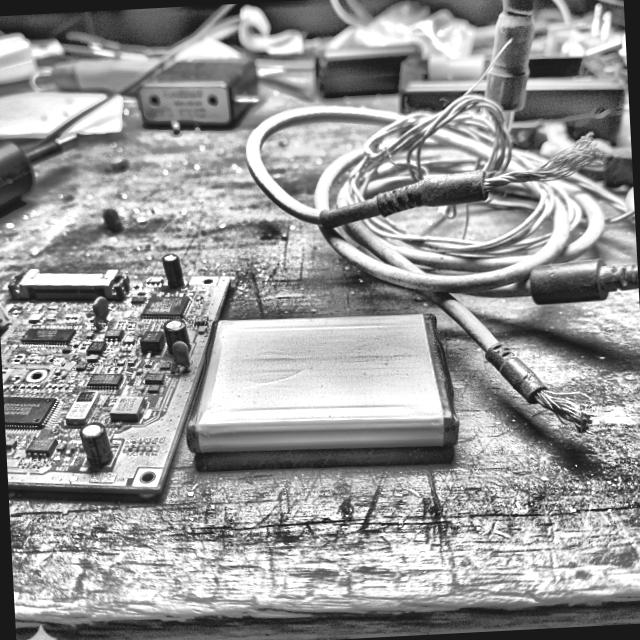Battery: (182, 307, 457, 473)
Cable: (253, 84, 640, 428)
PCB: (0, 251, 247, 509)
